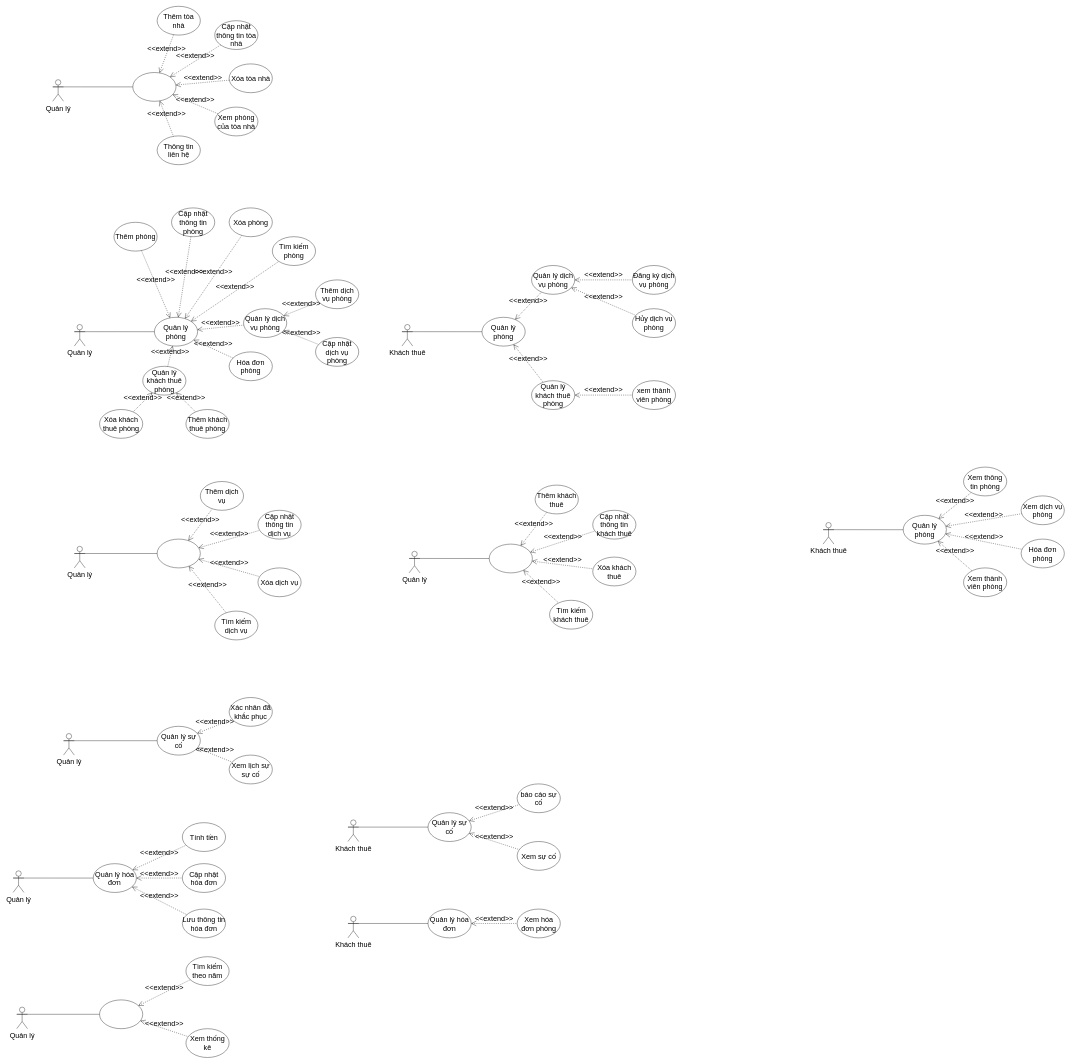
The diagram is 1071 pixels wide and 1064 high, and some of its shapes have lost their labels. Here are the shapes that lost their labels. From the top down, the box of each, then its label:
(132, 72, 176, 101): Quản lý tòa nhà
(157, 539, 200, 568): Quản lý dịch vụ
(489, 544, 532, 573): Quản lý khách thuê
(99, 1000, 143, 1029): Quản lý thu chi
